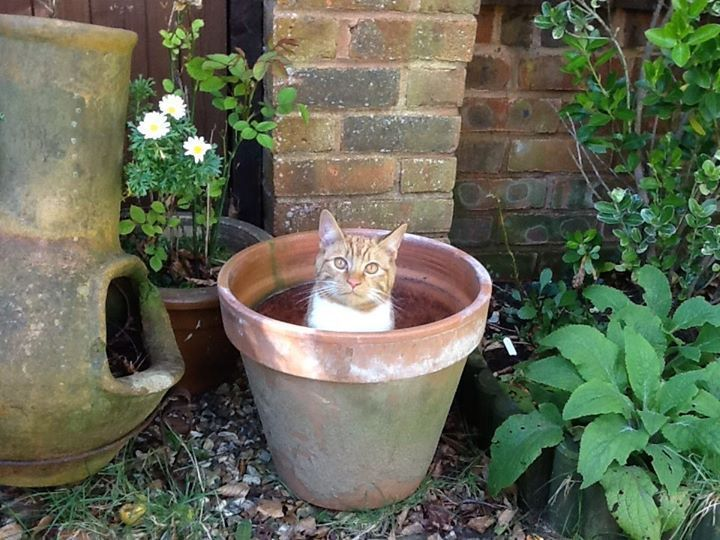cat: (301, 198, 413, 341)
plant: (509, 246, 720, 534), (116, 56, 272, 290)
